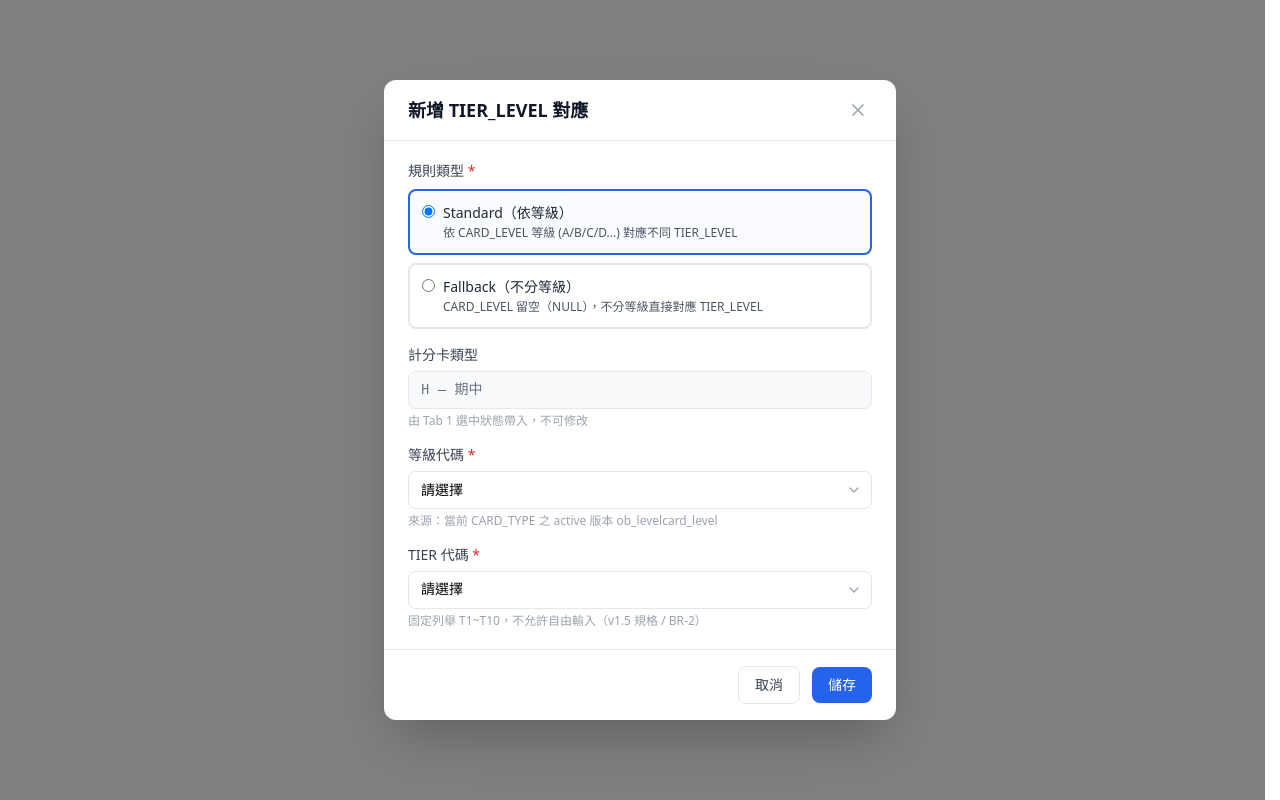
Test: CreateTierMappingModal — F056 v1.5 › 422 CARD_TYPE_FALLBACK_STANDARD_MUTEX → Modal 不關閉 + 顯示錯誤訊息
This screenshot has width=1280, height=800.
Select "A" in the dropdown with id "tier-card-level". click: (640, 490)
box: [408,471,872,509]
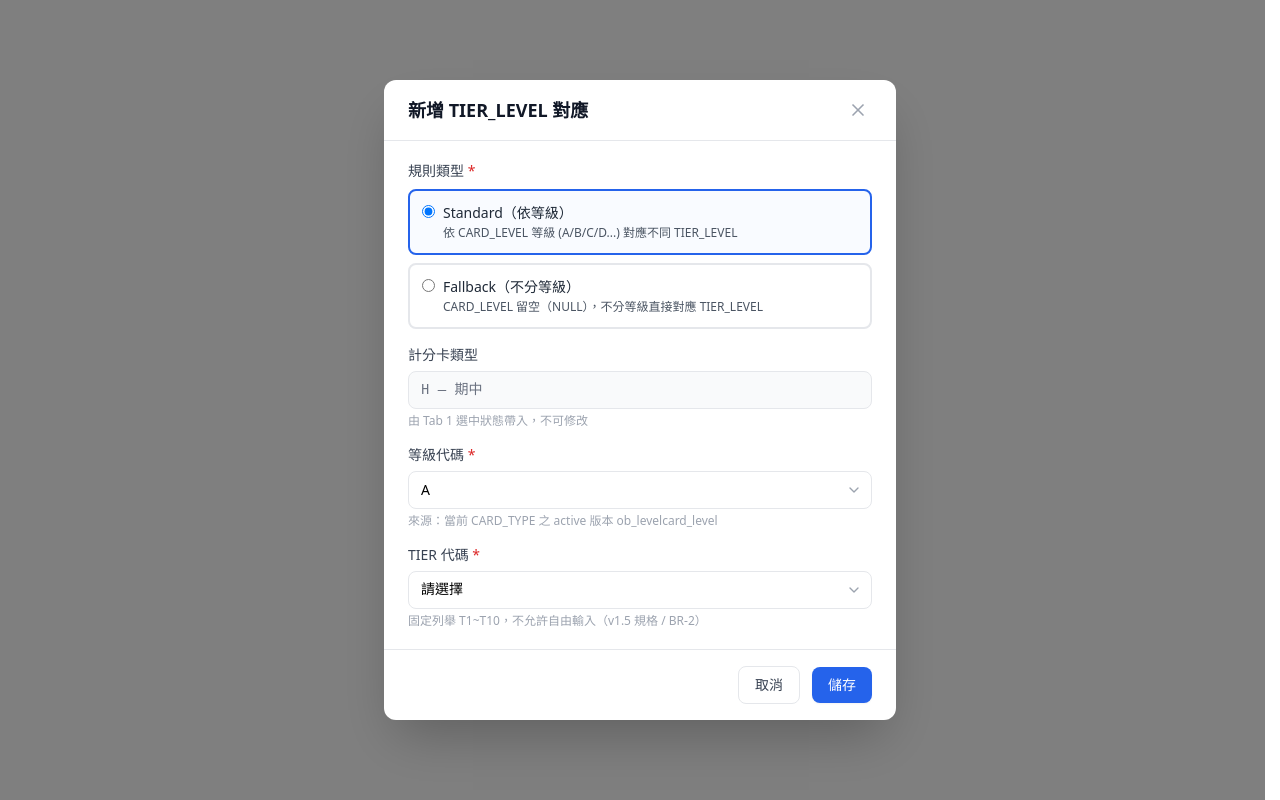
Select "T1" in the dropdown with id "tier-tier-level". click: (640, 590)
box: [408,571,872,609]
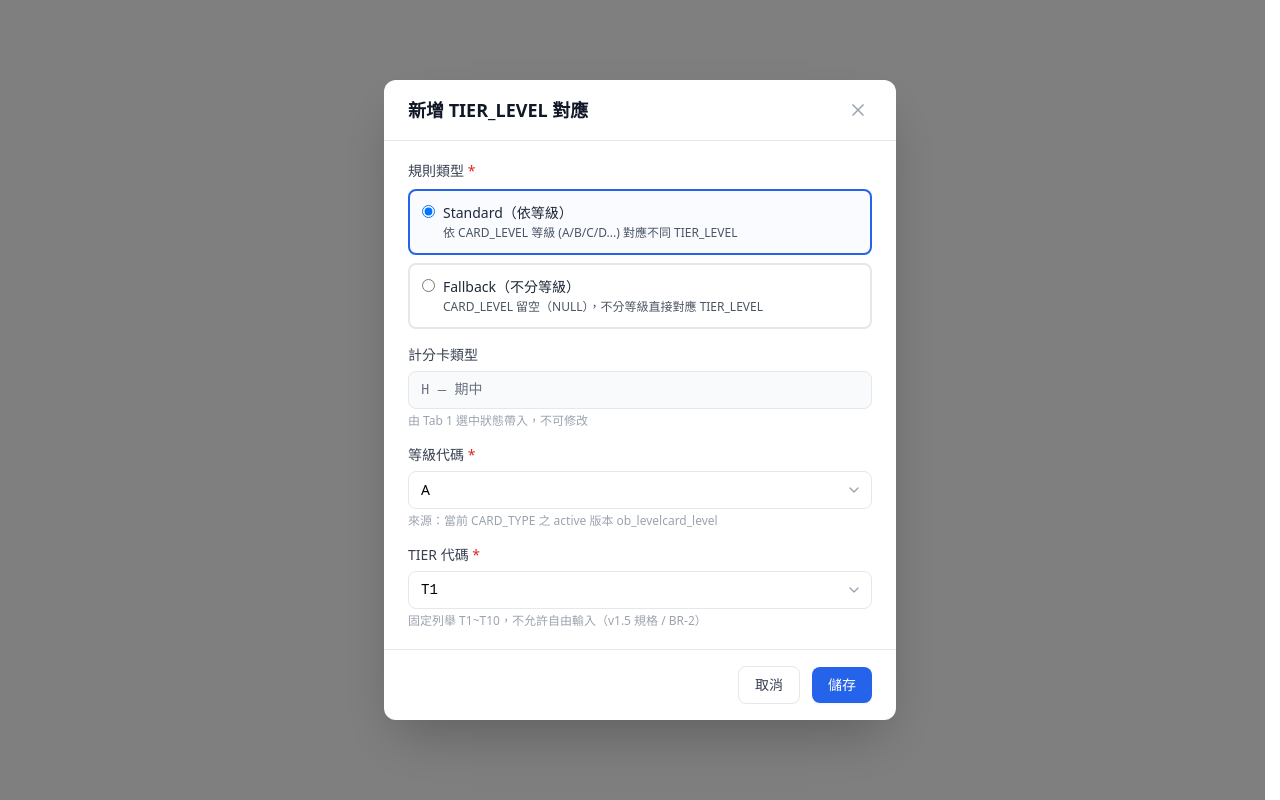
Click the button with test id "btn-tier-confirm". click: (842, 685)
box: [812,667,872,703]
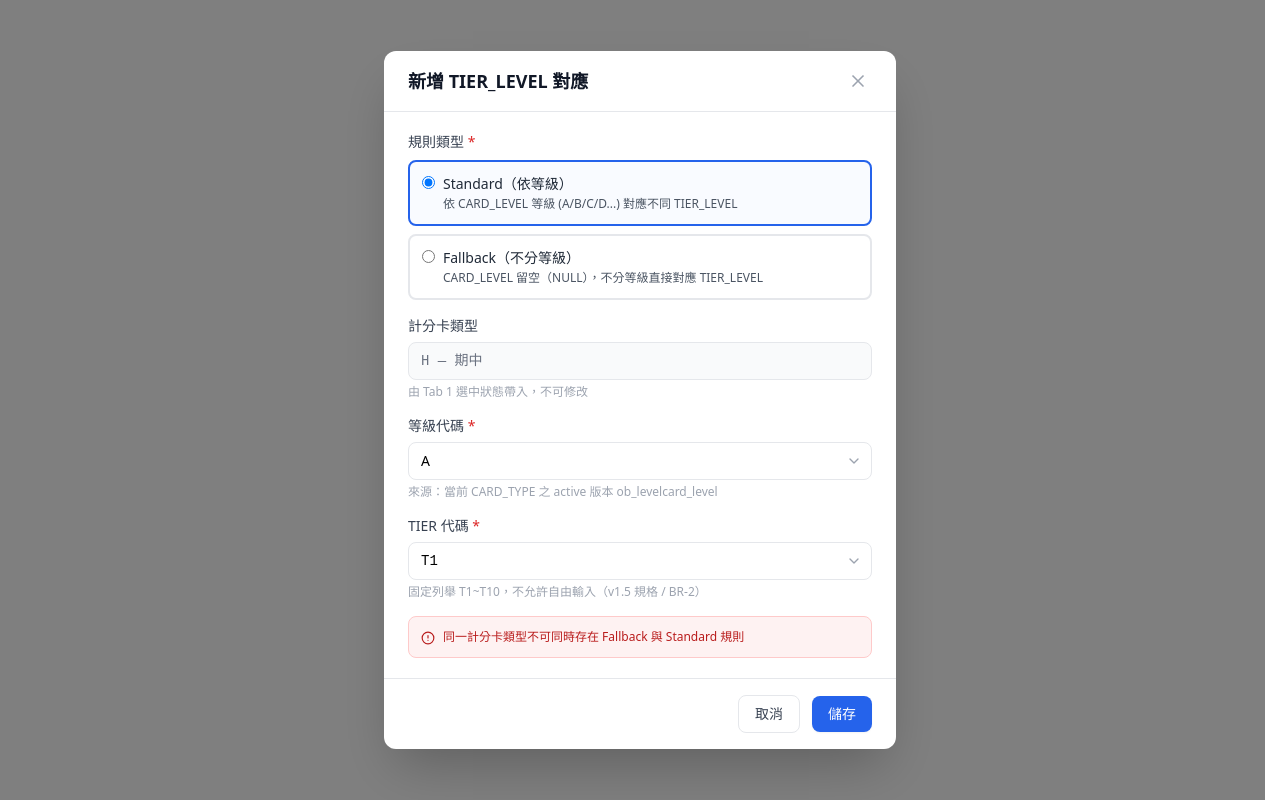
Expected: the message "同一計分卡類型不可同時存在 Fallback 與 Standard 規則" is shown, [408,616,872,658]
